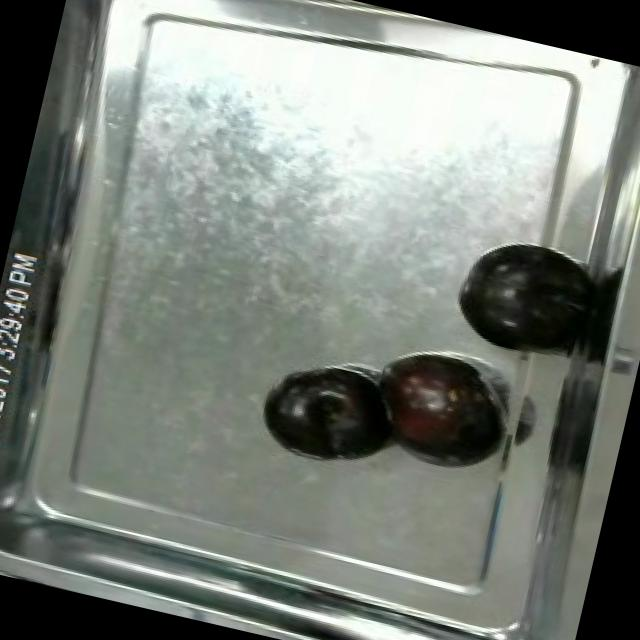Fruit: (352, 336, 520, 478), (442, 225, 604, 371), (258, 356, 404, 474)
